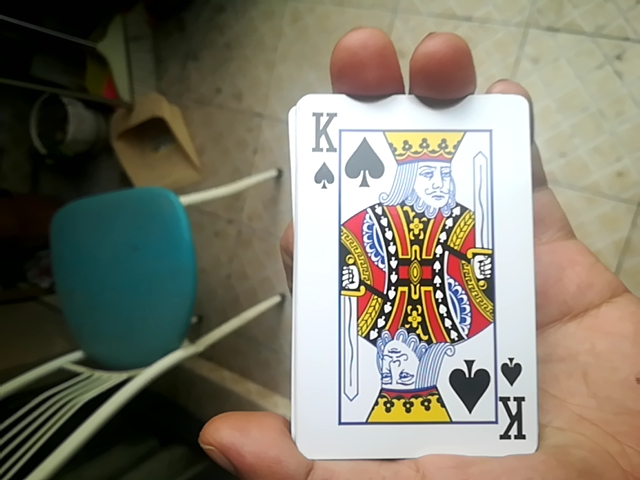ht k: (295, 87, 531, 463)
